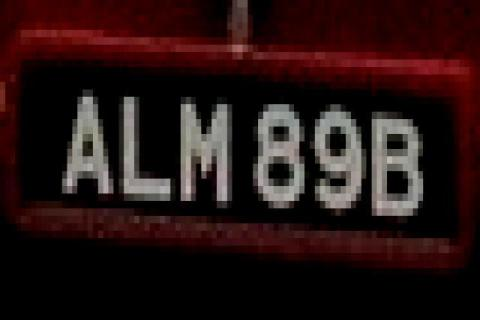LicensePlate: (6, 28, 464, 272)
